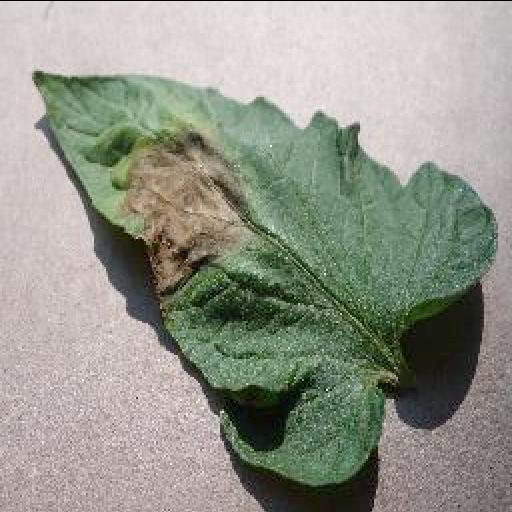disease_tomato: (32, 68, 498, 484)
